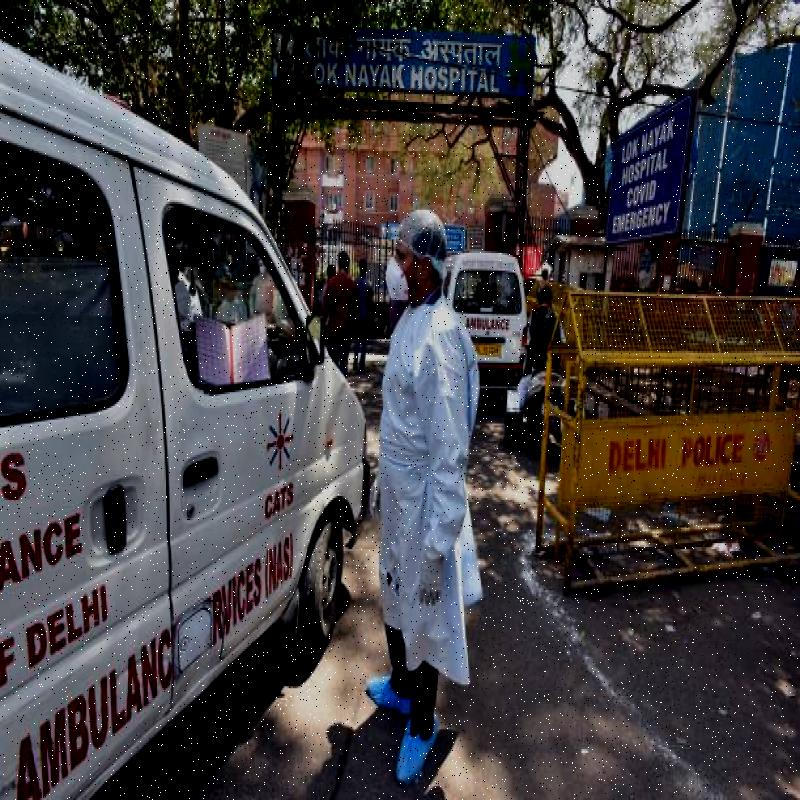ambulance: (0, 53, 356, 800)
